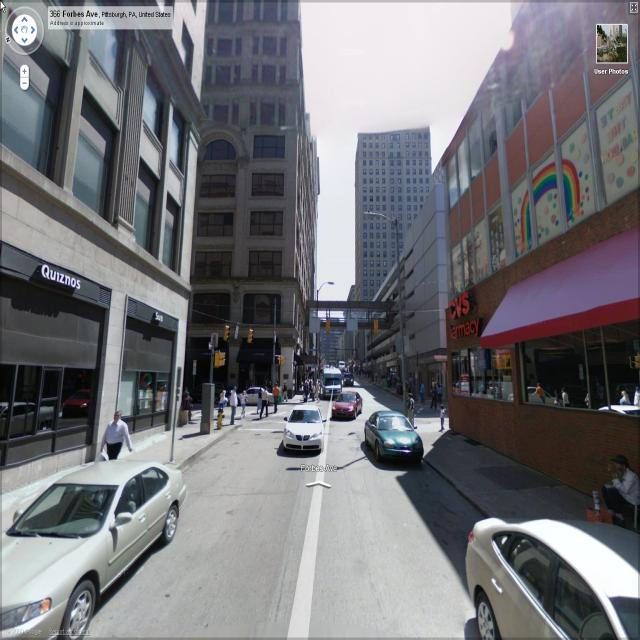b_1: (431, 11, 640, 432), (2, 1, 194, 413), (190, 7, 324, 398), (374, 172, 462, 422), (350, 126, 436, 302)
